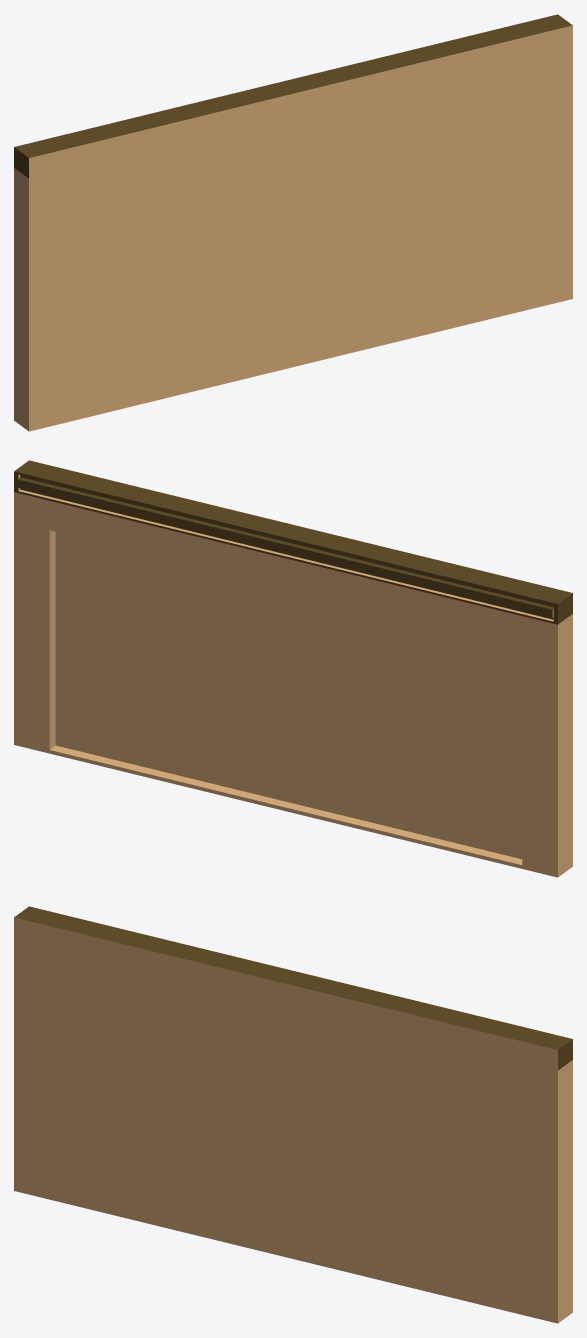
Rendered from Wall.fbx.
The picture shows the model from 3 angles, top to bottom: view 1: azimuth 30°, elevation 25°; view 2: azimuth 150°, elevation 25°; view 3: azimuth 330°, elevation 25°; orthographic projection.
Parts seen in each view (by area): view 1: Cube; view 2: Cube; view 3: Cube.
Boxes of the visible parts, x1,y1,x2,y2 form: Cube: (14,14,572,431); Cube: (14,460,572,877); Cube: (14,906,572,1323).
Size of the model in its own units: 2050 by 985 by 105.
